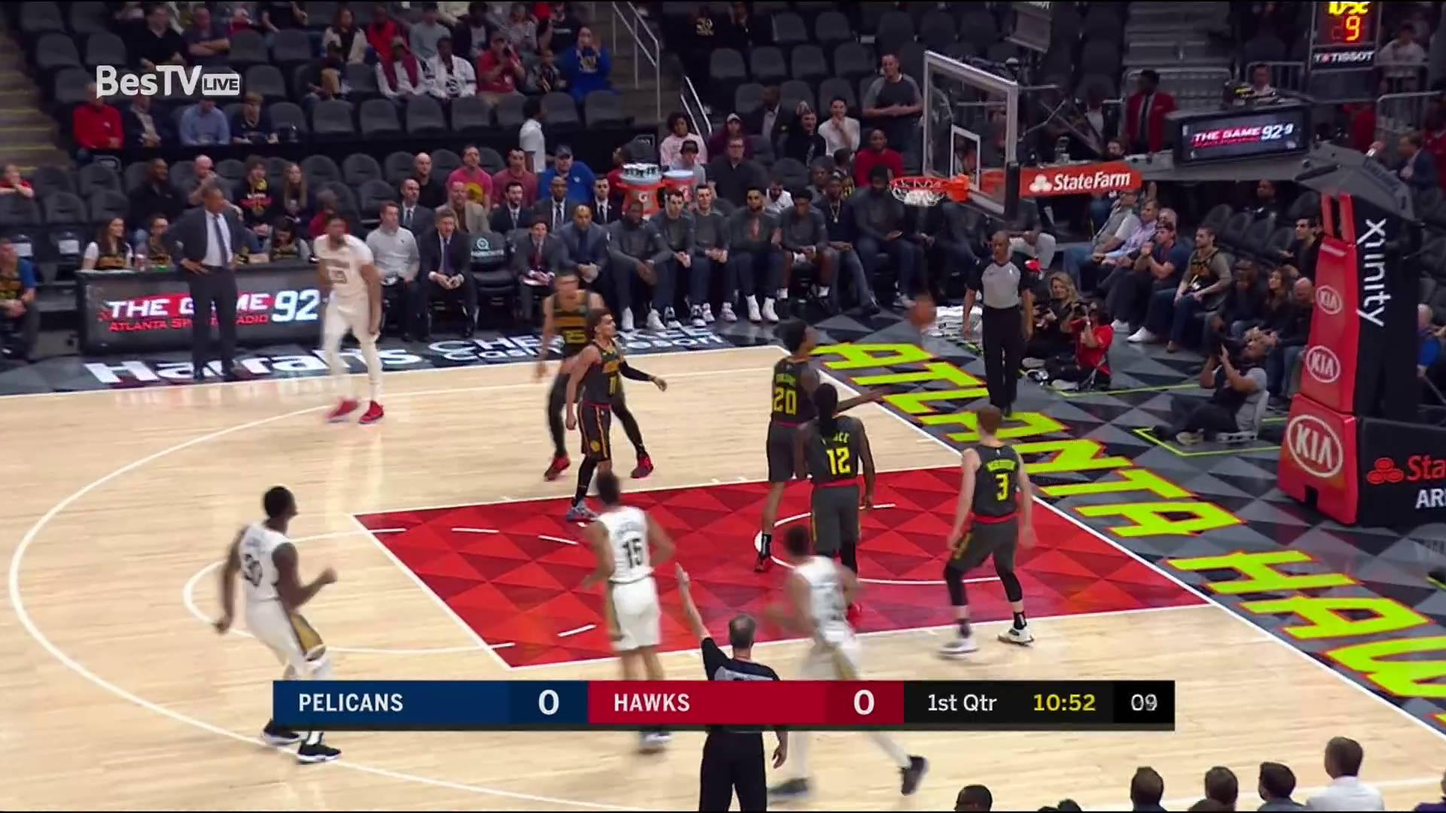basketball: (906, 296, 939, 330)
